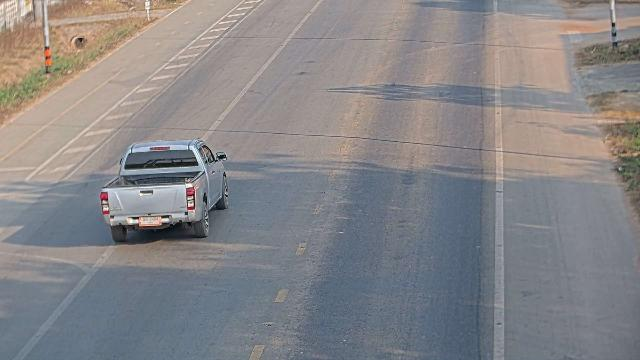pickup-truck: (99, 138, 229, 242)
